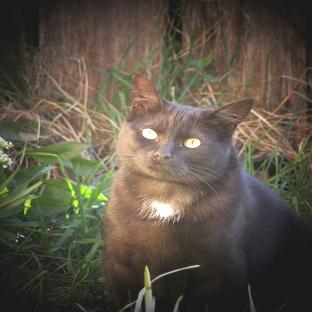Animal: (105, 74, 312, 311)
